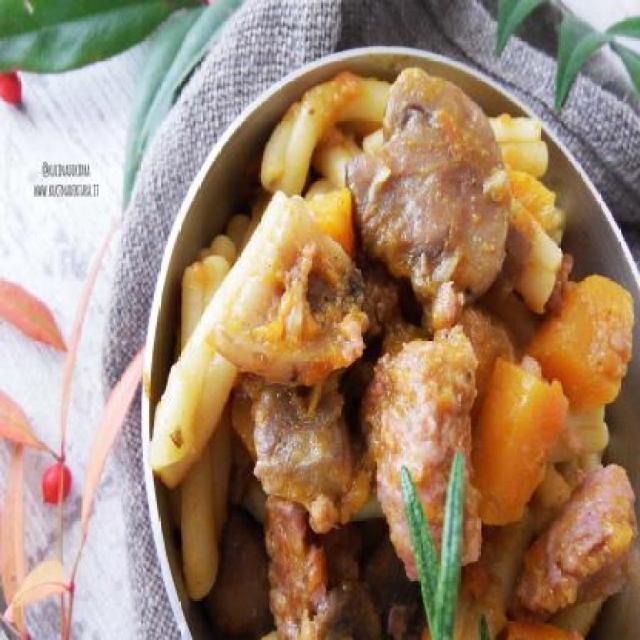Pasta al ragu: (171, 59, 640, 628)
